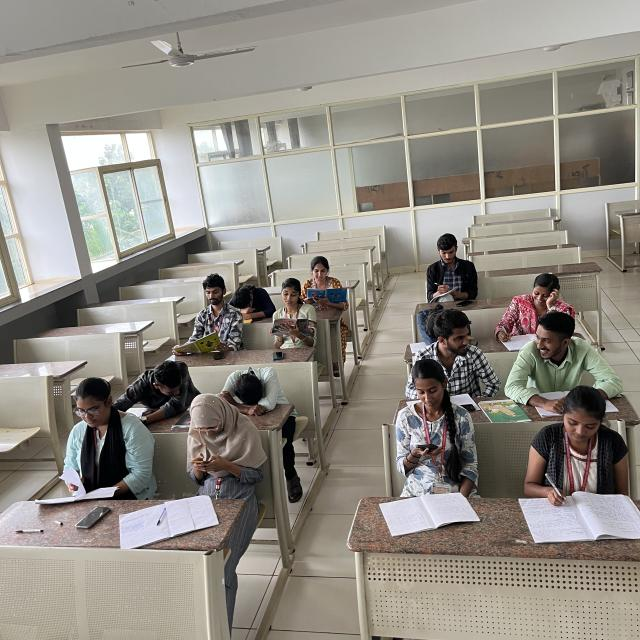Reading: (40, 374, 154, 505), (180, 272, 243, 352), (296, 253, 348, 310), (269, 277, 314, 340)
Sleeping: (218, 366, 284, 416), (230, 280, 277, 319)
Using Phone: (396, 365, 476, 480), (178, 395, 252, 486), (121, 358, 199, 426)
Writing: (522, 388, 631, 524), (495, 274, 585, 350), (422, 232, 480, 303)
